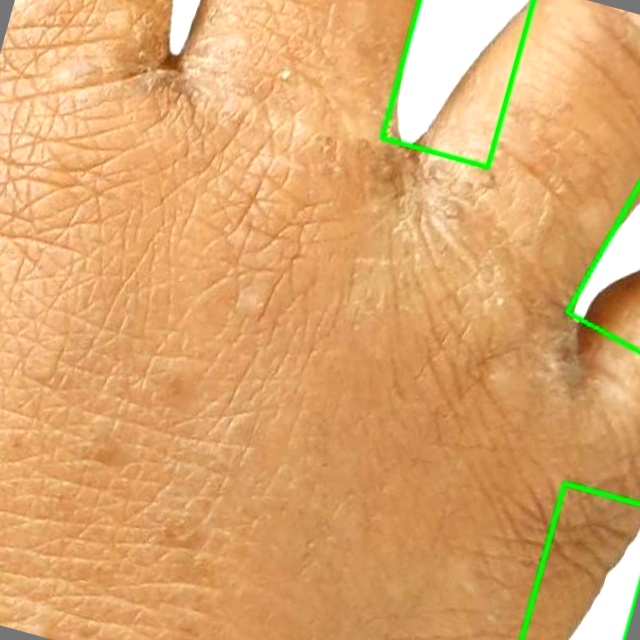Scabies: (382, 0, 533, 167)
